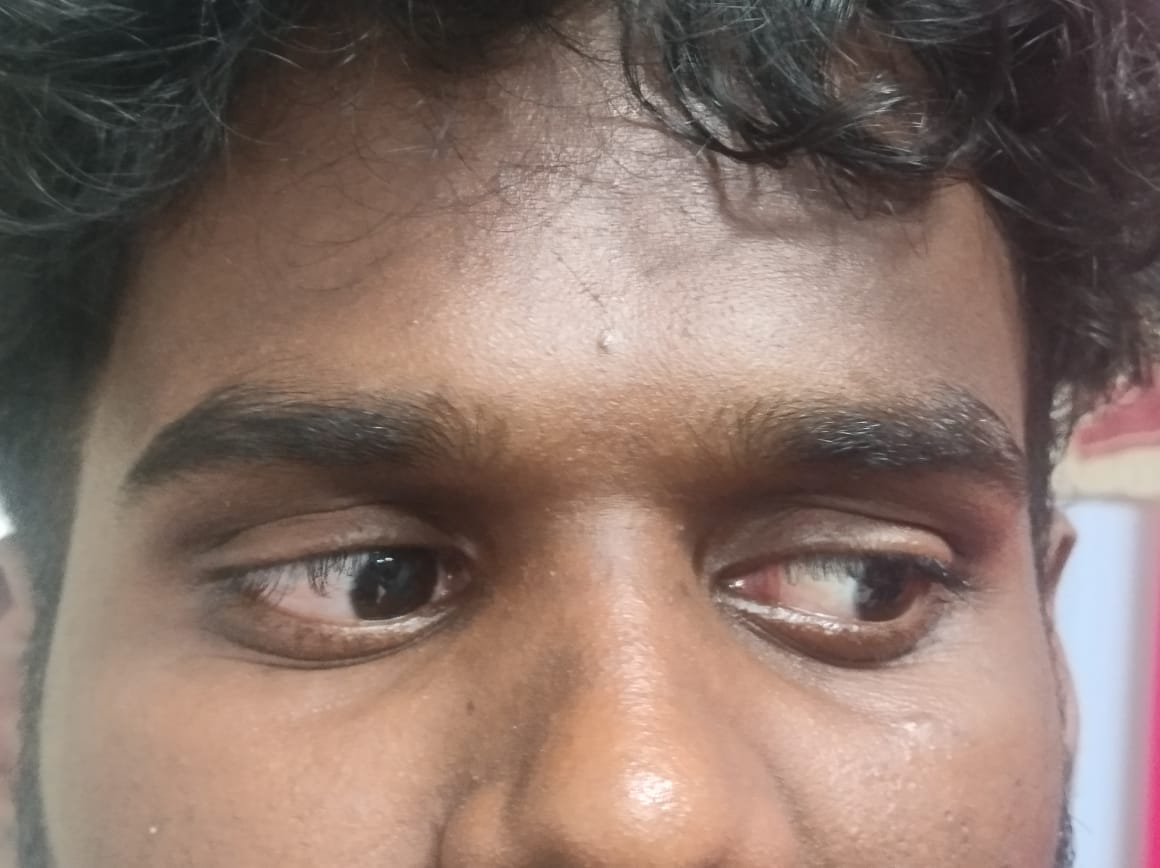EYE LEFT: (613, 390, 1072, 732), (68, 385, 541, 705)
